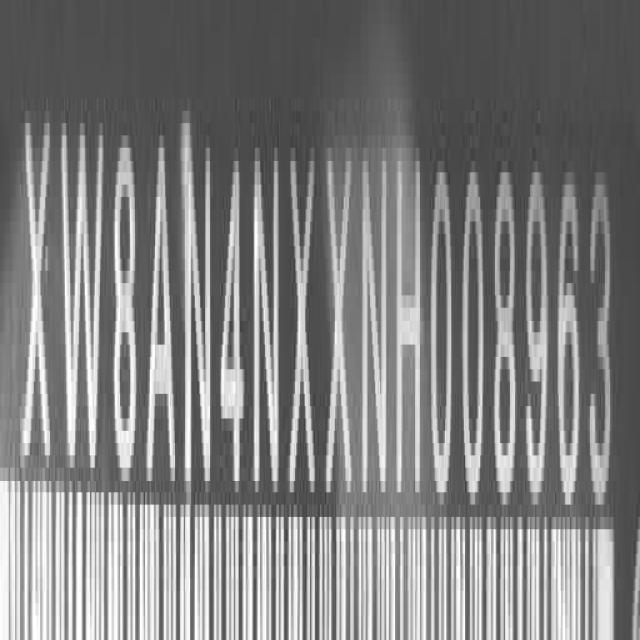0: (429, 143, 457, 509), (461, 149, 488, 512)
3: (589, 172, 617, 513)
4: (218, 140, 248, 502)
6: (556, 164, 581, 512)
8: (113, 120, 141, 490), (494, 155, 520, 508)
9: (526, 162, 550, 504)
A: (145, 111, 177, 499)
H: (390, 124, 424, 530)
N: (360, 125, 392, 512), (183, 106, 213, 501), (253, 125, 283, 508)
W: (58, 99, 104, 485)
X: (20, 97, 52, 479), (291, 123, 322, 511), (326, 126, 355, 510)
